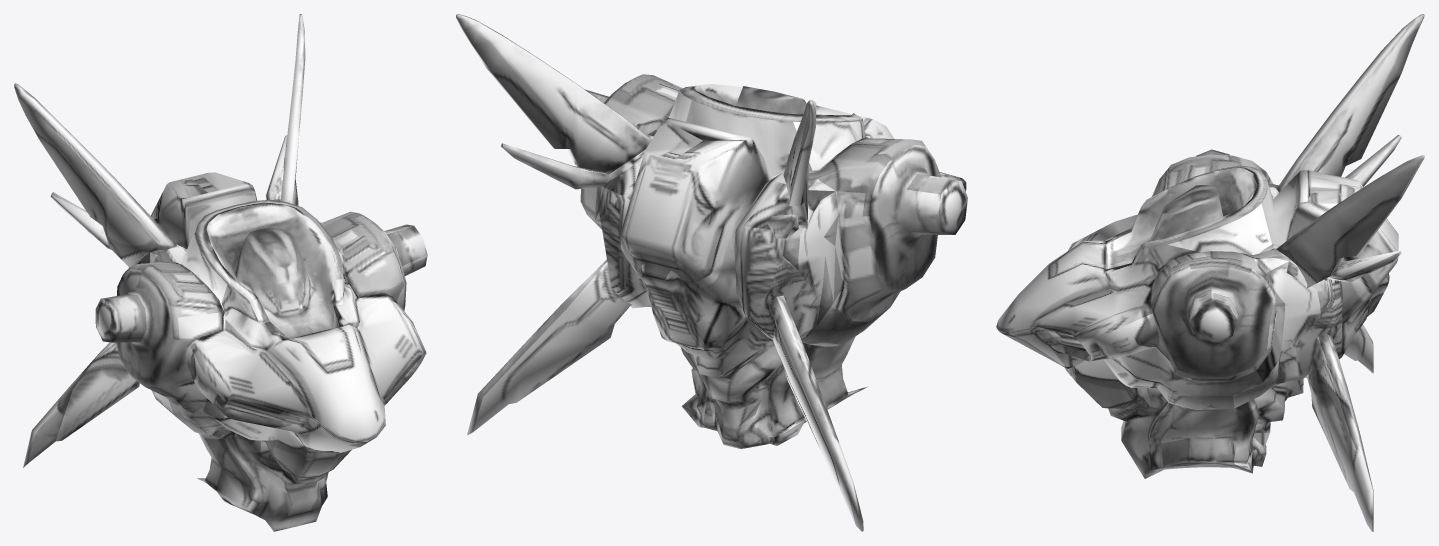
The picture shows the model from 3 angles, left to right: view 1: azimuth 30°, elevation 25°; view 2: azimuth 150°, elevation 25°; view 3: azimuth 270°, elevation 25°; orthographic projection. The views are drawn at different scales.
Visible parts, largest first — view 1: c_lt; view 2: c_lt; view 3: c_lt.
Part boxes in pixels (box(x1,y1,x2,y2)): c_lt: box(14, 14, 427, 531); c_lt: box(456, 14, 967, 531); c_lt: box(996, 14, 1424, 531).
Bounding box in the file's own units: 3.56 × 4.01 × 4.06.
Materials: 3 (3 with a texture image).
